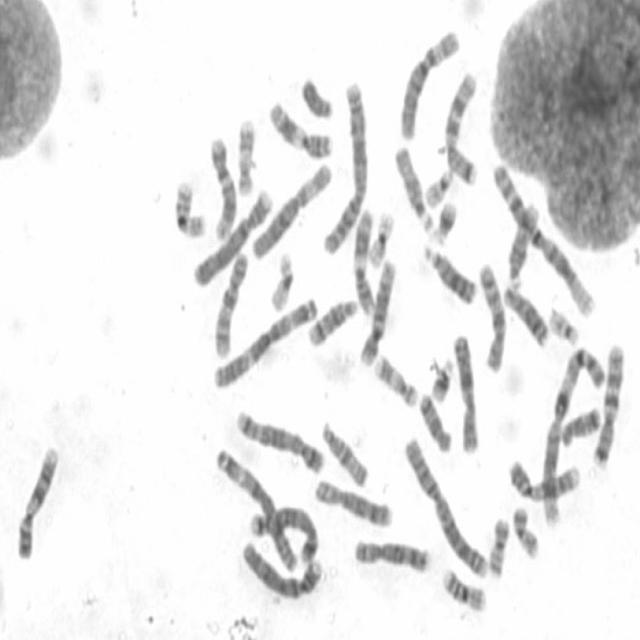A1: (491, 163, 597, 320), (541, 345, 607, 529)
A2: (403, 432, 490, 579), (322, 81, 369, 259)
A3: (214, 446, 300, 573), (212, 295, 320, 391)
B4: (192, 188, 273, 290), (242, 539, 324, 602)
B5: (235, 408, 325, 476), (247, 506, 320, 566)
C10: (213, 252, 250, 361), (477, 260, 507, 375)
C11: (267, 102, 333, 159), (353, 208, 378, 316)
C12: (359, 260, 396, 369), (208, 135, 237, 244)
C6: (251, 162, 333, 263), (399, 29, 460, 142)
C7: (443, 68, 480, 190), (591, 342, 625, 470)
C8: (313, 479, 394, 528), (353, 538, 430, 575)
C9: (16, 444, 60, 562), (508, 459, 582, 503)
D13: (423, 245, 478, 309), (503, 286, 549, 349)
D14: (306, 296, 360, 349), (507, 202, 539, 290)
D15: (392, 146, 435, 233), (321, 421, 370, 489)
E16: (442, 566, 488, 614), (172, 179, 208, 239)
E17: (373, 354, 419, 409), (236, 117, 255, 201)
E18: (419, 391, 452, 453), (560, 405, 601, 448)
F19: (268, 249, 296, 316), (366, 209, 395, 272)
F20: (511, 504, 541, 562), (487, 515, 510, 578)
G21: (429, 358, 454, 408), (436, 200, 457, 248)
G22: (547, 306, 580, 348), (424, 168, 453, 212)
X: (451, 335, 480, 454)
Y: (299, 78, 334, 120)
